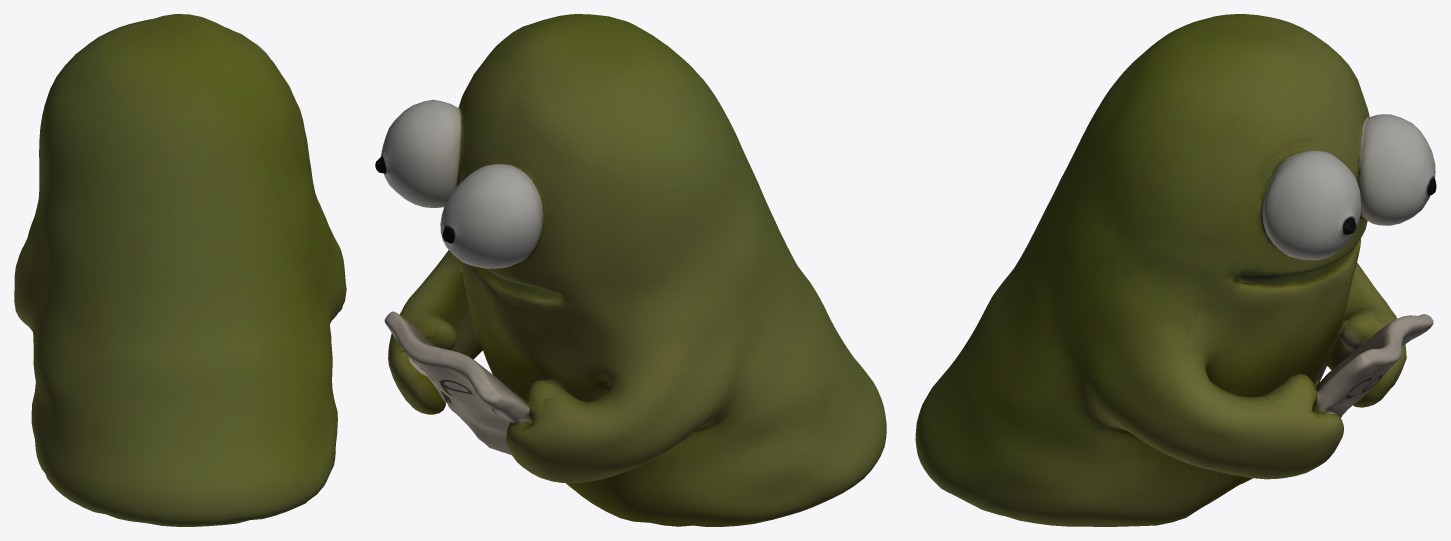
Rendered from peggy.glb.
The picture shows the model from 3 angles, left to right: view 1: azimuth 30°, elevation 25°; view 2: azimuth 150°, elevation 25°; view 3: azimuth 270°, elevation 25°; orthographic projection. The views are drawn at different scales.
Parts seen in each view (by area): view 1: tripo_node_309ecd66; view 2: tripo_node_309ecd66; view 3: tripo_node_309ecd66.
Boxes of the visible parts, x1,y1,x2,y2 form: tripo_node_309ecd66: [14, 14, 346, 526]; tripo_node_309ecd66: [375, 14, 886, 526]; tripo_node_309ecd66: [915, 14, 1436, 526].
Bounding box in the file's own units: 0.8667 × 0.9984 × 1.02.
1 material, 1 textured.
